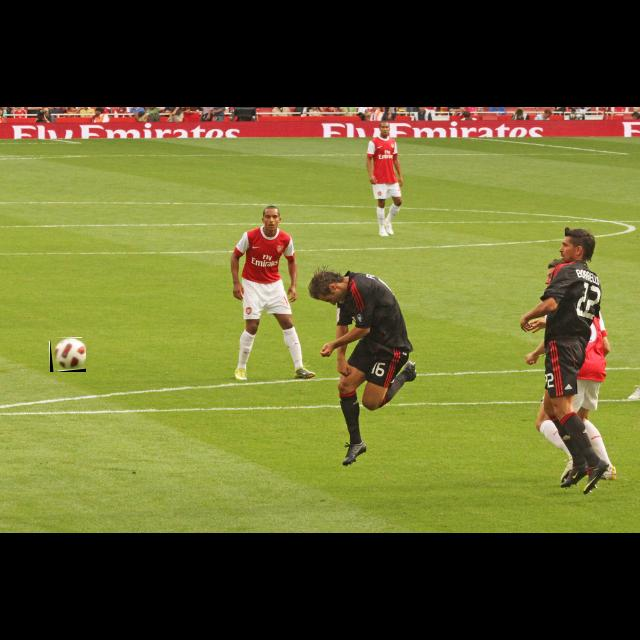Football: (50, 338, 86, 372)
